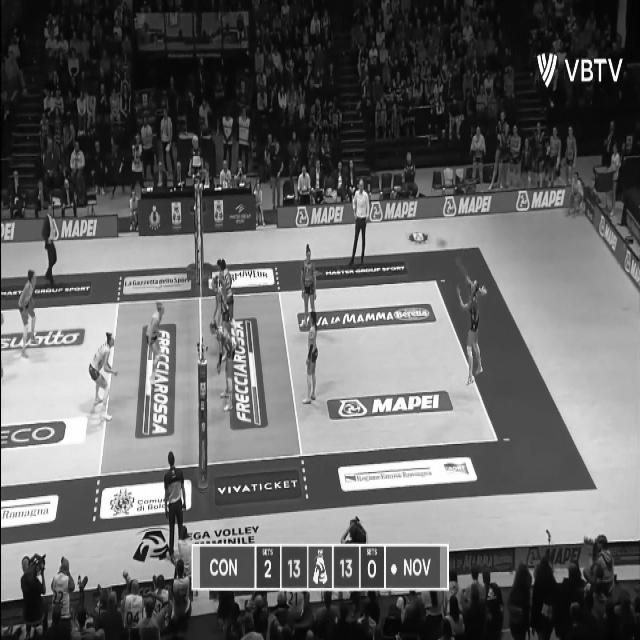volleyball court: (1, 279, 497, 486)
